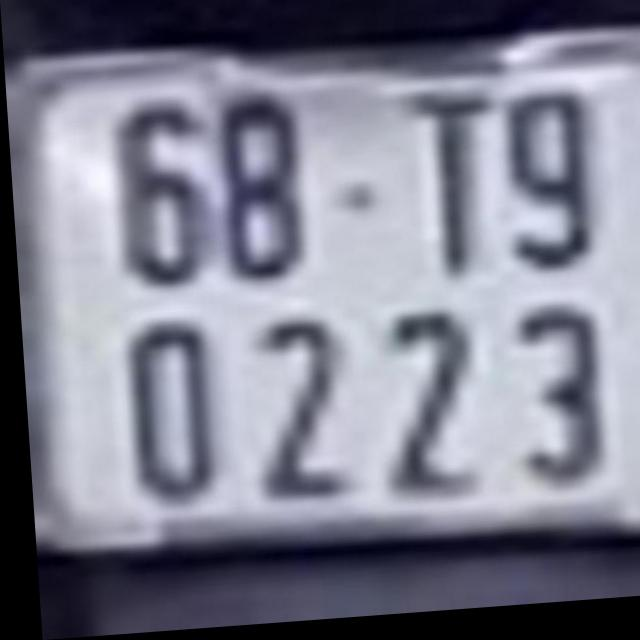0: (123, 324, 205, 501)
2: (378, 313, 474, 507), (250, 318, 336, 507)
3: (509, 307, 595, 496)
6: (115, 101, 207, 289)
8: (216, 98, 299, 286)
9: (499, 97, 582, 276)
T: (396, 95, 493, 280)
